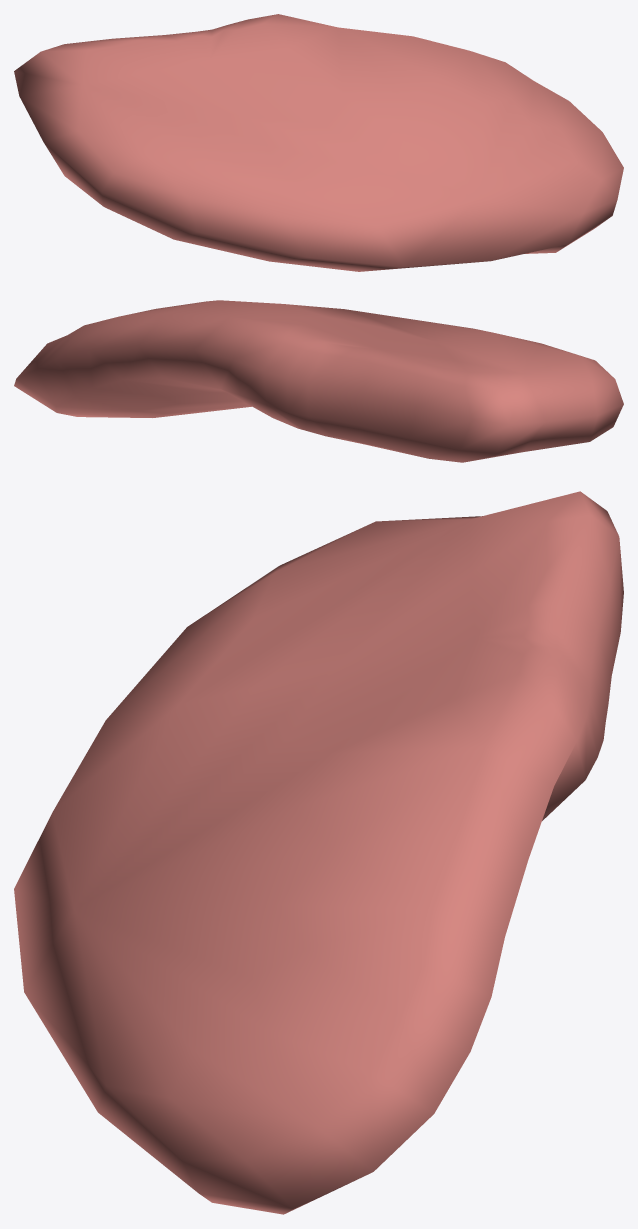
The picture shows the model from 3 angles, top to bottom: view 1: azimuth 30°, elevation 25°; view 2: azimuth 150°, elevation 25°; view 3: azimuth 270°, elevation 25°; orthographic projection. The views are drawn at different scales.
Visible parts, largest first — view 1: ZA_9ec6b00ef58541bb; view 2: ZA_9ec6b00ef58541bb; view 3: ZA_9ec6b00ef58541bb.
Boxes of the visible parts, x1,y1,x2,y2 form: ZA_9ec6b00ef58541bb: [14, 14, 623, 271]; ZA_9ec6b00ef58541bb: [14, 300, 623, 462]; ZA_9ec6b00ef58541bb: [14, 491, 623, 1214].
Size of the model in its own units: 0.00358 by 0.0013 by 0.00208.
